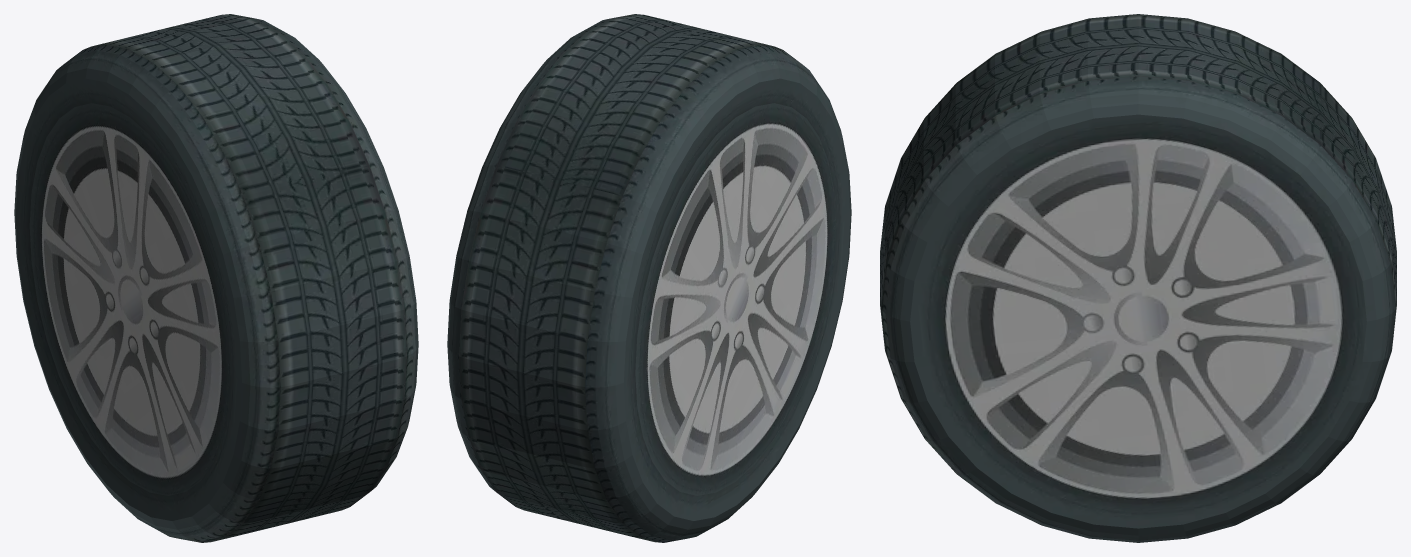
The model's file is pneu.obj.
3 views of the same model, side by side, from view 1: azimuth 30°, elevation 25°; view 2: azimuth 150°, elevation 25°; view 3: azimuth 270°, elevation 25° (orthographic).
Parts seen in each view (by area): view 1: Circle.001; view 2: Circle.001; view 3: Circle.001.
Boxes of the visible parts, box(x1,y1,x2,y2) form: Circle.001: box(14, 14, 418, 542); Circle.001: box(447, 14, 851, 542); Circle.001: box(880, 14, 1396, 542).
Bounding box in the file's own units: 0.7893 × 2 × 2.
